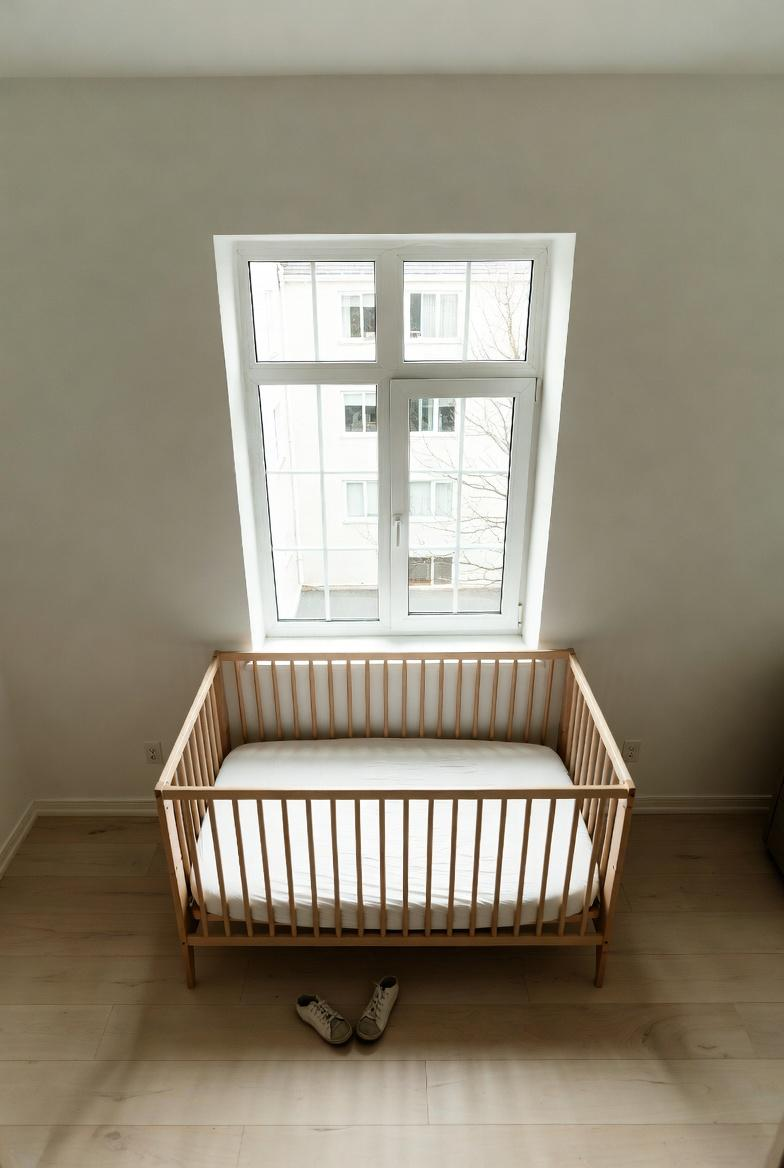crib: (156, 650, 634, 986)
